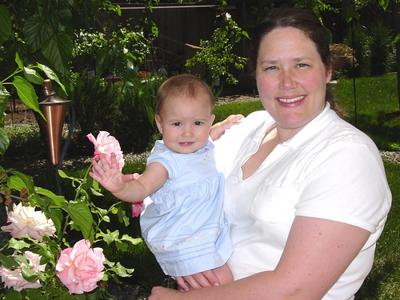person: (89, 77, 246, 288)
